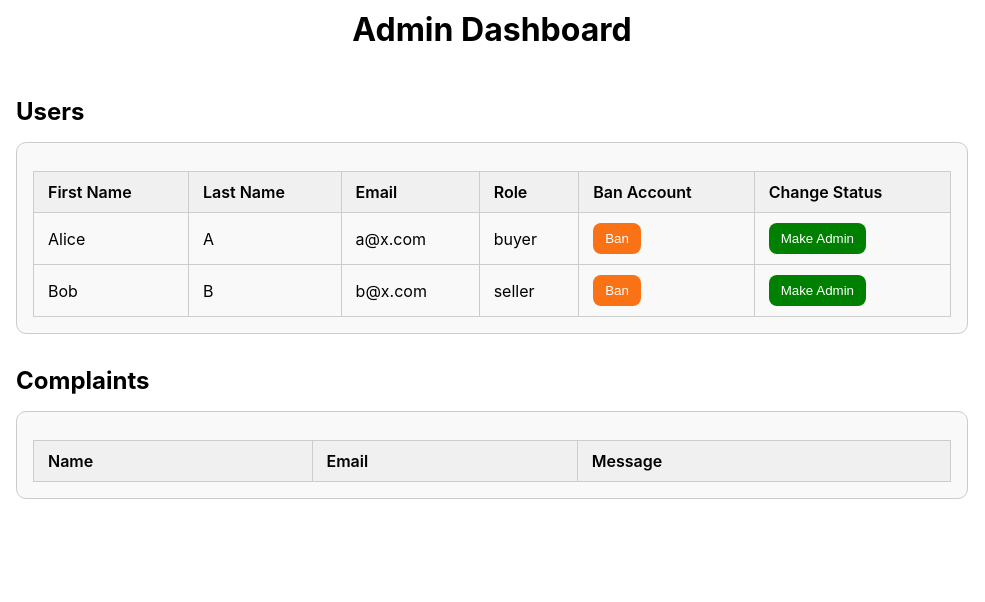
Test: Admin Component › Given Make Admin clicked but fails, then error card shows
The image size is (985, 602).
Expected: the text "Bob" is shown, [34, 264, 188, 316]
What coordinates should you click on to do the following:
click the button "Make Admin" in the row of "Bob"
I would click on:
 (817, 290)
Its box is [769, 275, 866, 306].
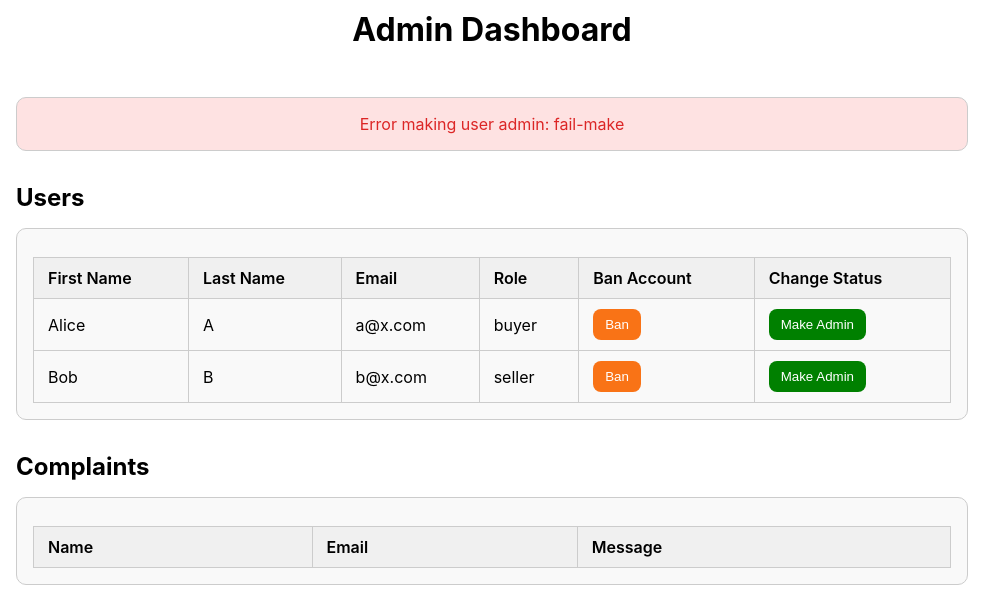
Expected: the text "Error making user admin: fail-make" is shown, [16, 97, 968, 151]
